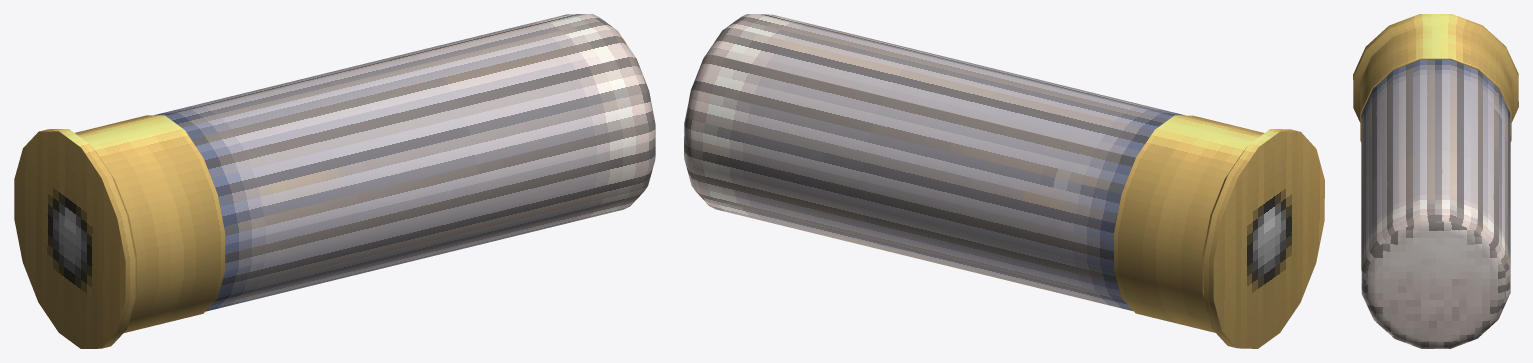
File: ammomaker_HullShotgunS.fbx
The picture shows the model from 3 angles, left to right: view 1: azimuth 30°, elevation 25°; view 2: azimuth 150°, elevation 25°; view 3: azimuth 270°, elevation 25°; orthographic projection. The views are drawn at different scales.
Visible parts, largest first — view 1: ammomaker_HullShotgunS; view 2: ammomaker_HullShotgunS; view 3: ammomaker_HullShotgunS.
Part boxes in pixels (box(x1,y1,x2,y2)): ammomaker_HullShotgunS: box(14, 14, 655, 348); ammomaker_HullShotgunS: box(684, 14, 1324, 348); ammomaker_HullShotgunS: box(1353, 14, 1518, 348).
Size of the model in its own units: 6.22 by 2.21 by 2.21.
